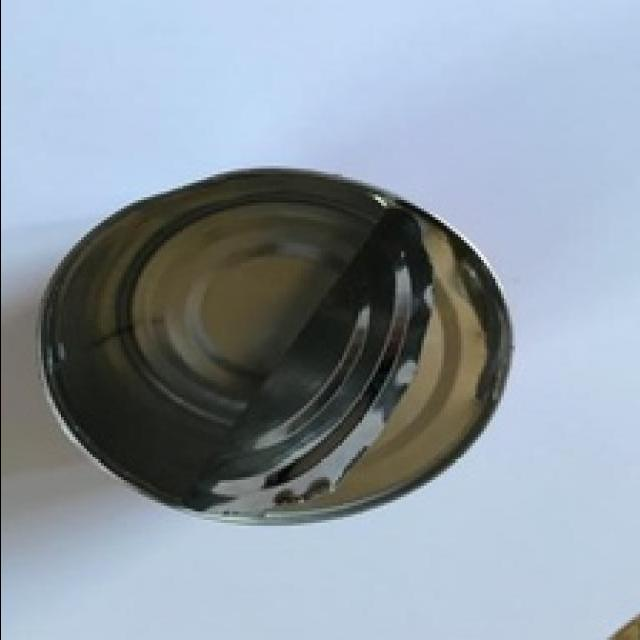can: (38, 167, 514, 522)
